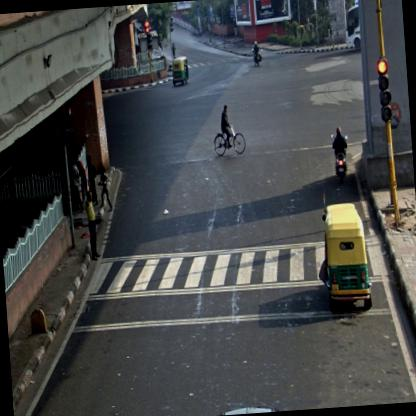motorcycle: (322, 199, 371, 314), (210, 103, 246, 158), (330, 124, 351, 183), (170, 54, 190, 87), (253, 39, 263, 67)
